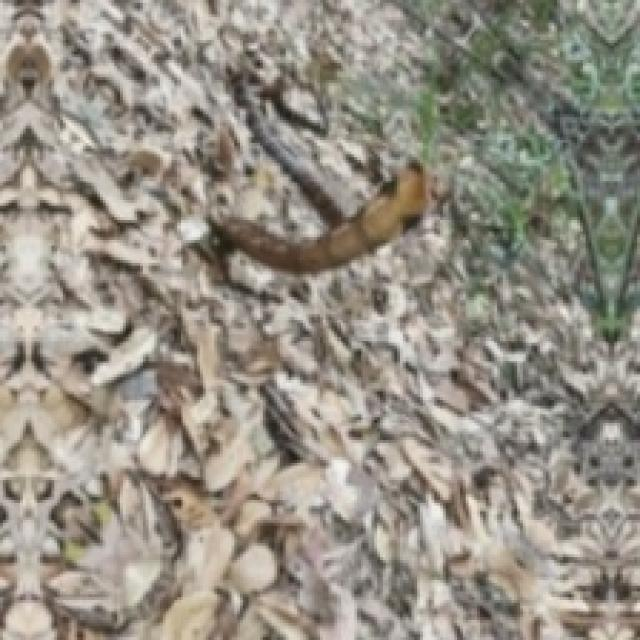king cobra: (211, 163, 429, 271)
